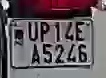1: (53, 21, 63, 44)
2: (53, 42, 65, 64)
4: (65, 23, 76, 43), (66, 44, 77, 63)
5: (42, 43, 53, 64)
6: (75, 41, 88, 64)
A: (29, 43, 40, 66)
E: (73, 20, 86, 45)
P: (38, 21, 52, 43)
U: (27, 21, 39, 43)
